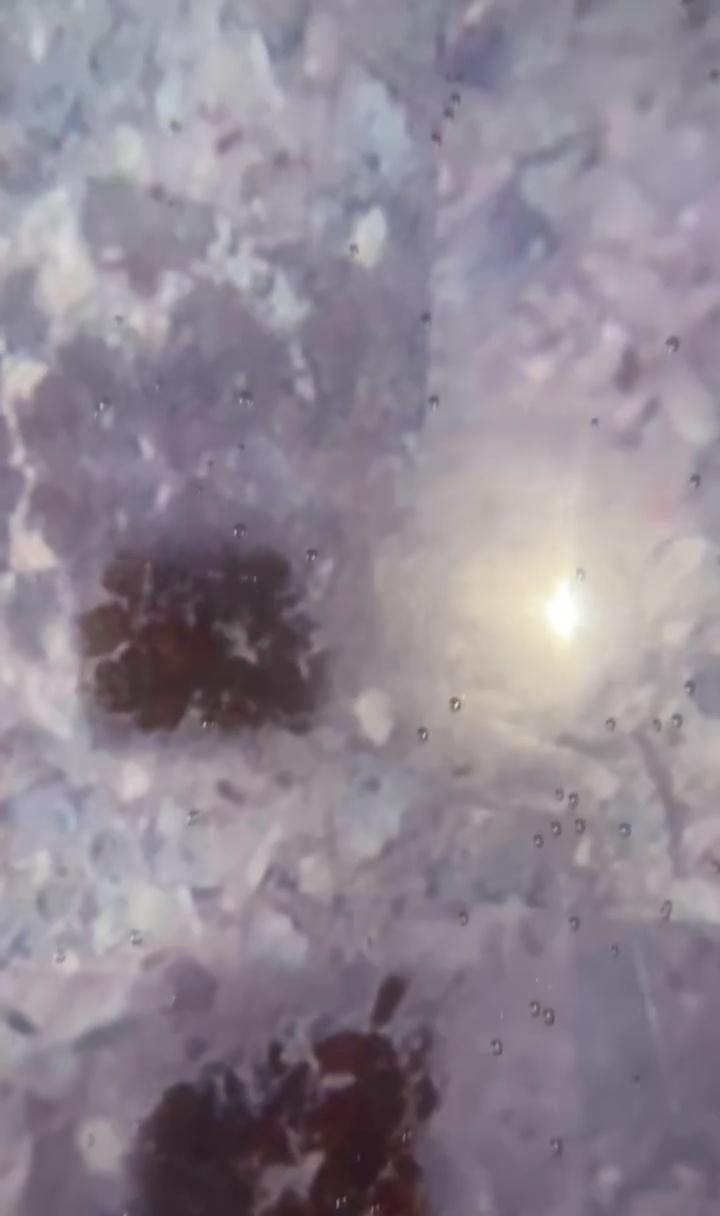Corrosion: (123, 973, 444, 1216), (72, 541, 332, 738)
